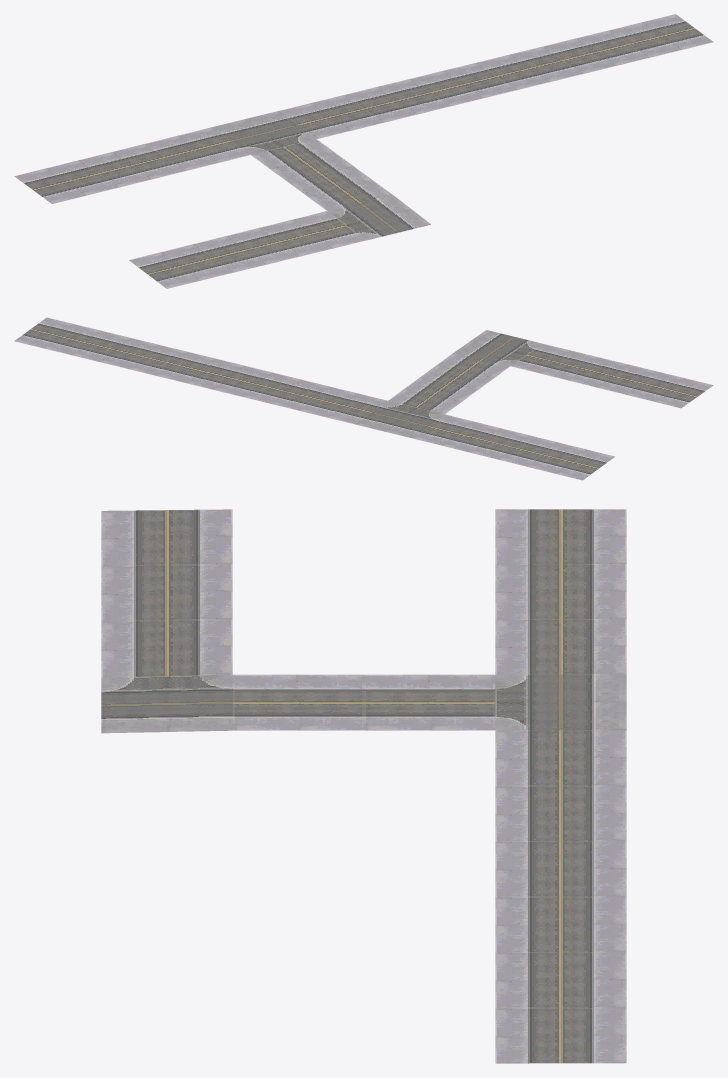
The model's file is lodeedge12.obj.
3 renders of one model, top to bottom at view 1: azimuth 30°, elevation 25°; view 2: azimuth 150°, elevation 25°; view 3: azimuth 270°, elevation 25°, orthographic. The views are drawn at different scales.
Visible parts, largest first — view 1: lodEedge12; view 2: lodEedge12; view 3: lodEedge12.
Part boxes in pixels (<box>): lodEedge12: <box>14,14,713,288</box>; lodEedge12: <box>14,317,713,480</box>; lodEedge12: <box>101,509,626,1063</box>.
Bounding box in the file's own units: 200 × 0.534 × 80.
2 materials, 2 textured.
